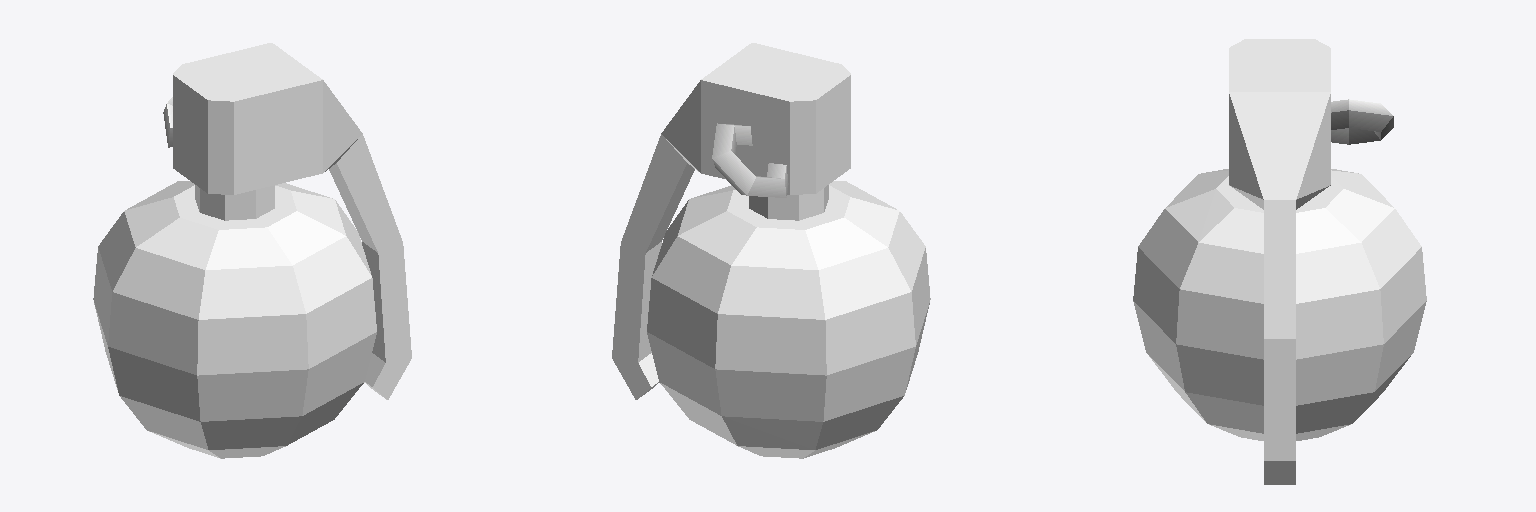
3 views of the same model, side by side, from view 1: azimuth 30°, elevation 25°; view 2: azimuth 150°, elevation 25°; view 3: azimuth 270°, elevation 25° (orthographic).
Visible parts, largest first — view 1: Handle1; view 2: Handle1, Pin1; view 3: Handle1, Pin1.
Part boxes in pixels (x1,y1,x2,y2): Handle1: (93,43,411,458); Handle1: (612,43,930,458); Pin1: (712,123,788,197); Handle1: (1133,39,1426,484); Pin1: (1331,99,1393,144).
Size of the model in its own units: 0.5869 by 0.6999 by 0.5047.
Materials: 2 (1 with a texture image).